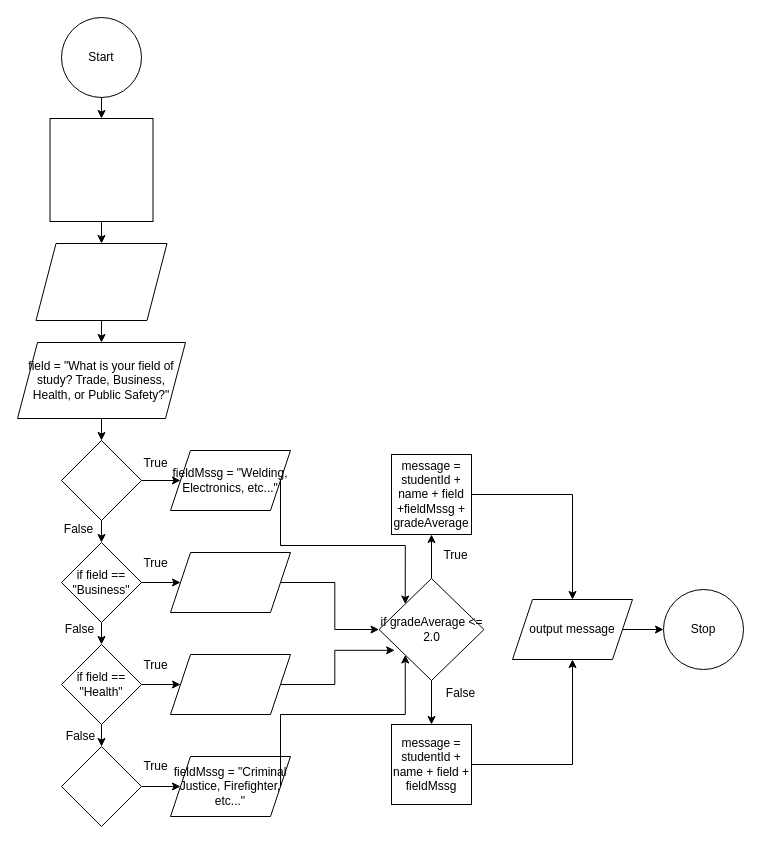
The diagram is 761 pixels wide and 844 high, and some of its shapes have lost their labels. Here are the shapes that lost their labels. From the top down, the centre of each, then its label:
[101,170]: var studentId var name var field var gradeAverage var message var fieldMssg
[101,281]: input studentId name = "Enter your first and last name." input gradeAverage
[101,480]: if field == "Trade"
[230,582]: fieldMssg = "Accounting, IT, etc..."
[230,684]: fieldMssg = "Nursing, Radiography, etc..."
[101,786]: if field == "Public Safety"
